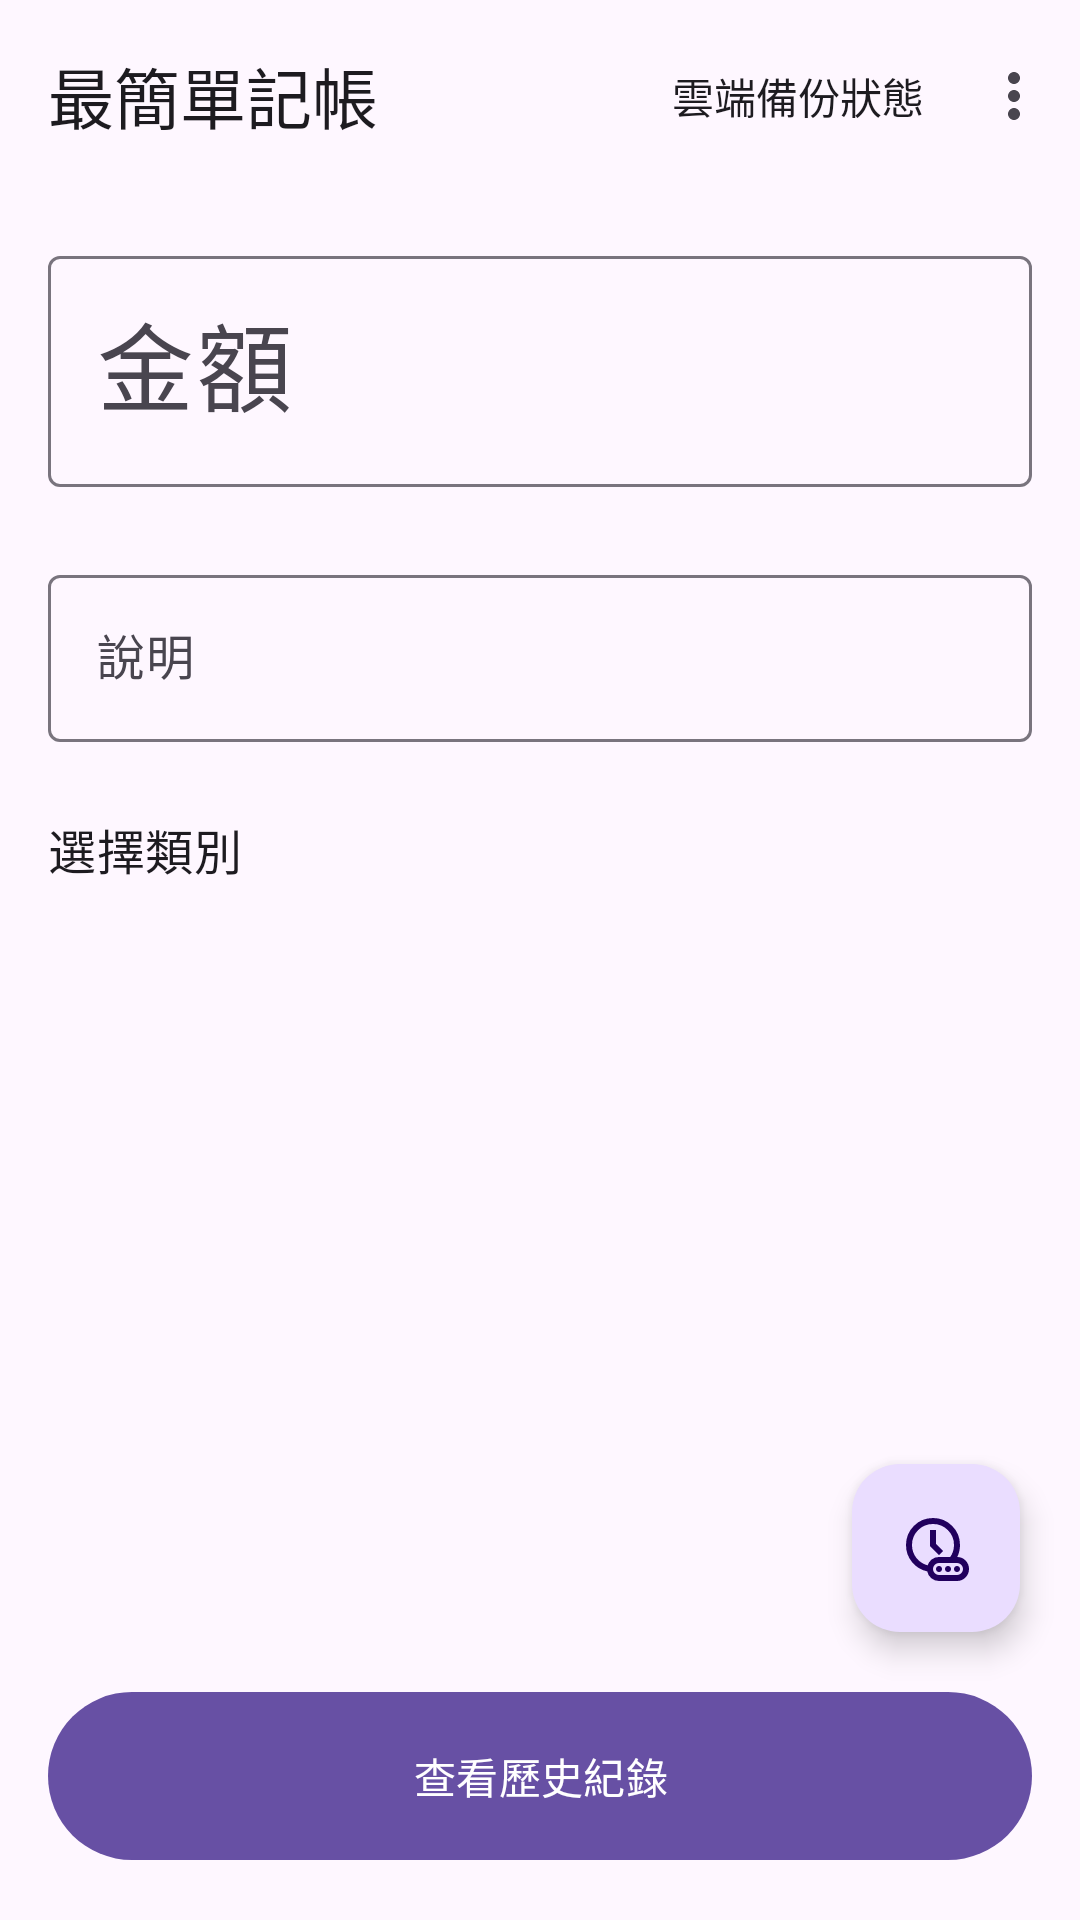

Where icons sit on this 1080px x 1920px app screen, as region(x1, y1, x2, y2):
週期性付款: region(852, 1464, 1020, 1632)
